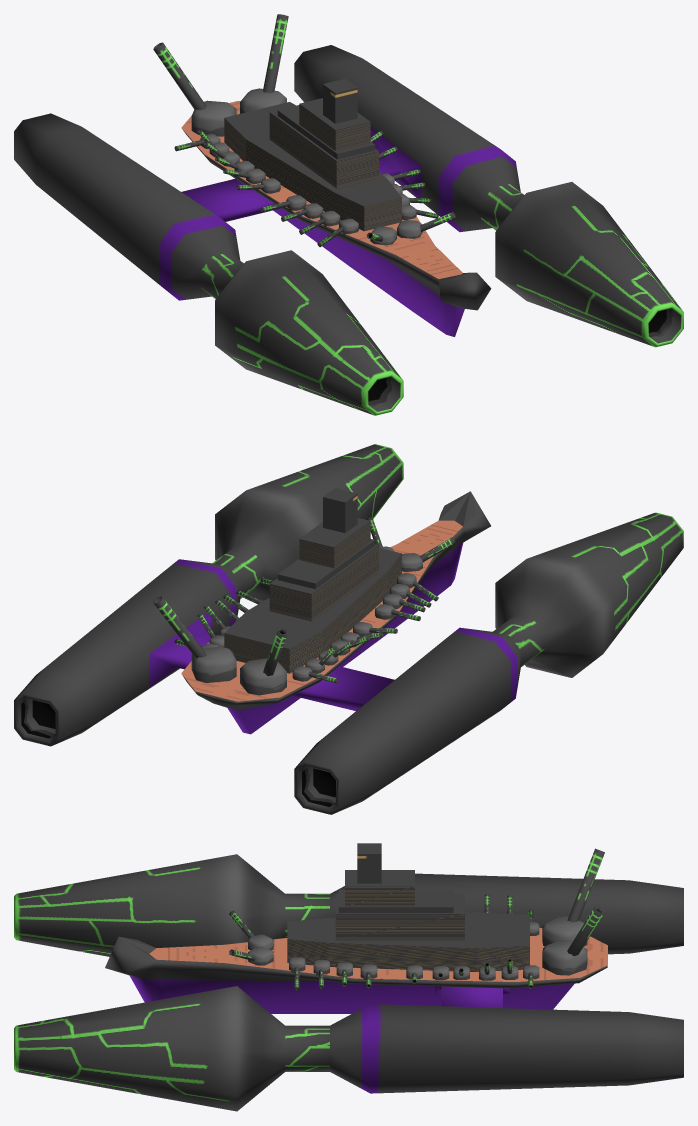
The model's file is ship1.2.fbx.
3 views of the same model, one above another, from view 1: azimuth 30°, elevation 25°; view 2: azimuth 150°, elevation 25°; view 3: azimuth 270°, elevation 25° (orthographic). The views are drawn at different scales.
Visible parts, largest first — view 1: hane, Cube, hou12, hou1, hou2, hou5, hou3, hou4; view 2: hane, Cube, hou12, hou1, hou10; view 3: hane, Cube, hou12, hou1, hou11.
Boxes of the visible parts, box(x1,y1,x2,y2) form: hane: box(14, 45, 683, 415); Cube: box(181, 78, 491, 336); hou12: box(153, 14, 288, 136); hou1: box(366, 212, 455, 245); hou2: box(317, 204, 438, 247); hou5: box(260, 169, 420, 212); hou3: box(299, 193, 431, 234); hou4: box(281, 182, 425, 221); hane: box(14, 444, 683, 814); Cube: box(181, 488, 490, 734); hou12: box(153, 596, 288, 695); hou1: box(367, 517, 455, 571); hou10: box(197, 613, 337, 673); hane: box(14, 854, 683, 1111); Cube: box(105, 843, 607, 1013); hou12: box(542, 848, 604, 975); hou1: box(229, 910, 273, 965); hou11: box(523, 909, 539, 989).
Size of the model in its own units: 8346 by 3974 by 12951.
